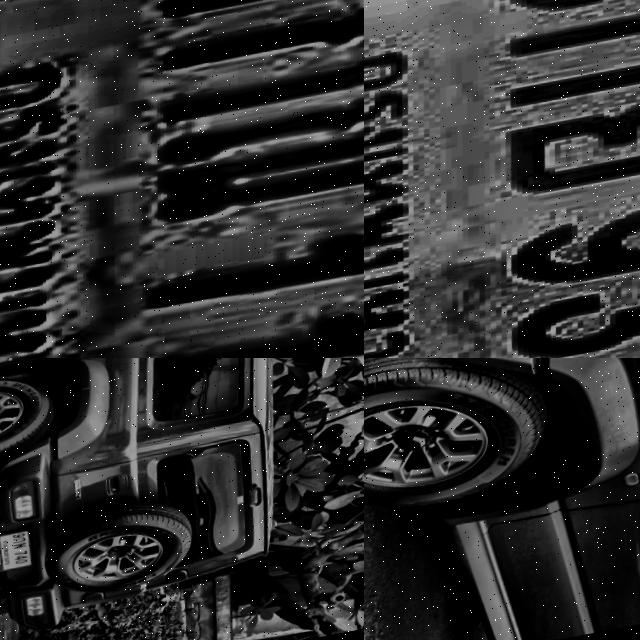license-plate: (0, 0, 364, 358), (364, 0, 640, 358), (0, 531, 43, 577)
